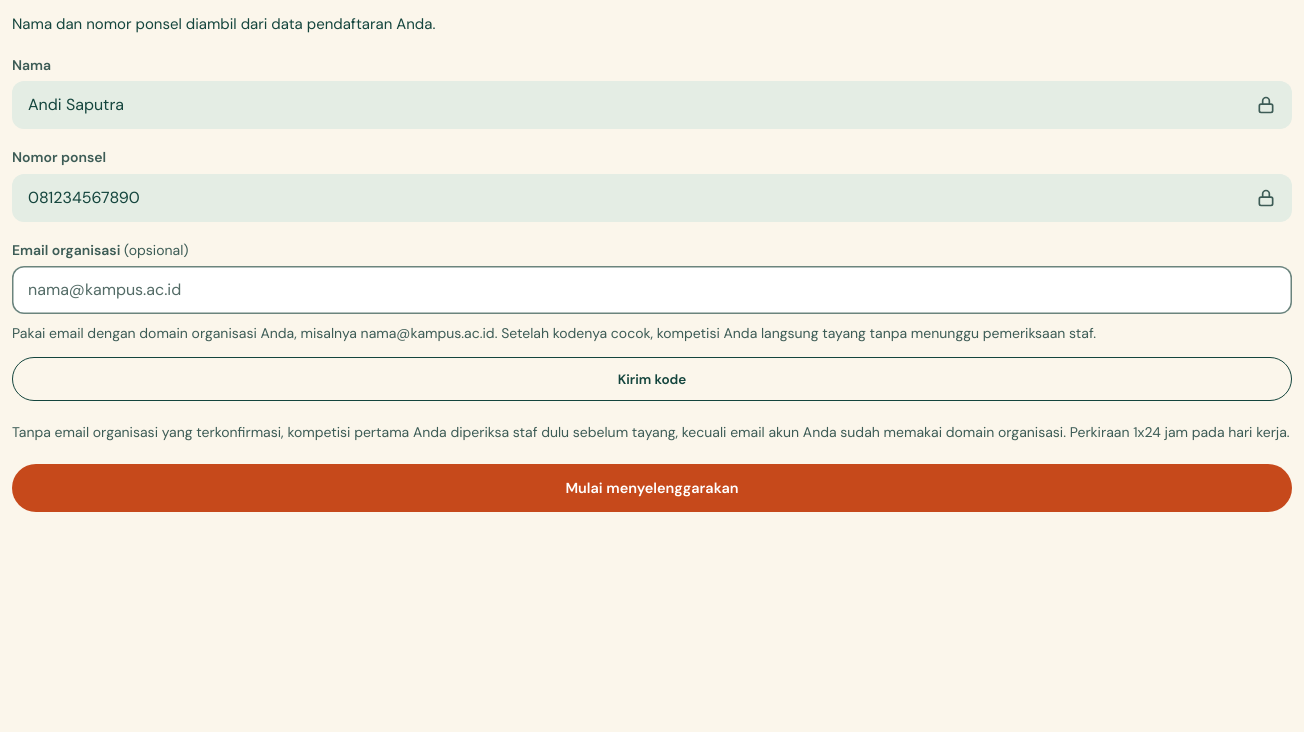
the account the role form is bound to › sends the expected user id and shows the session-changed message on a mismatch
The image size is (1304, 732).
Click the button "Mulai menyelenggarakan".
click(652, 488)  # box top-left (12, 464), bottom-right (1292, 512)
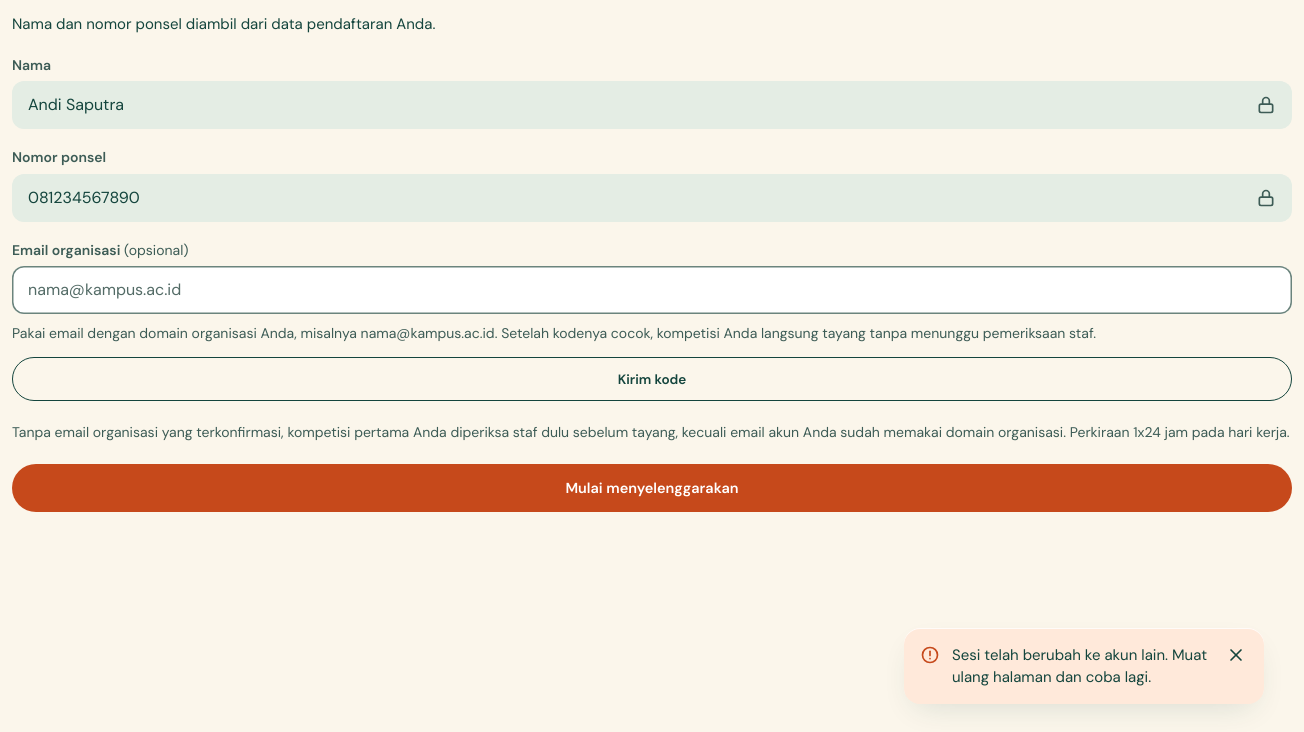
Expected: the text "Sesi telah berubah ke akun lain. Muat ulang halaman dan coba lagi." is shown, top-left (952, 644), bottom-right (1208, 688)
